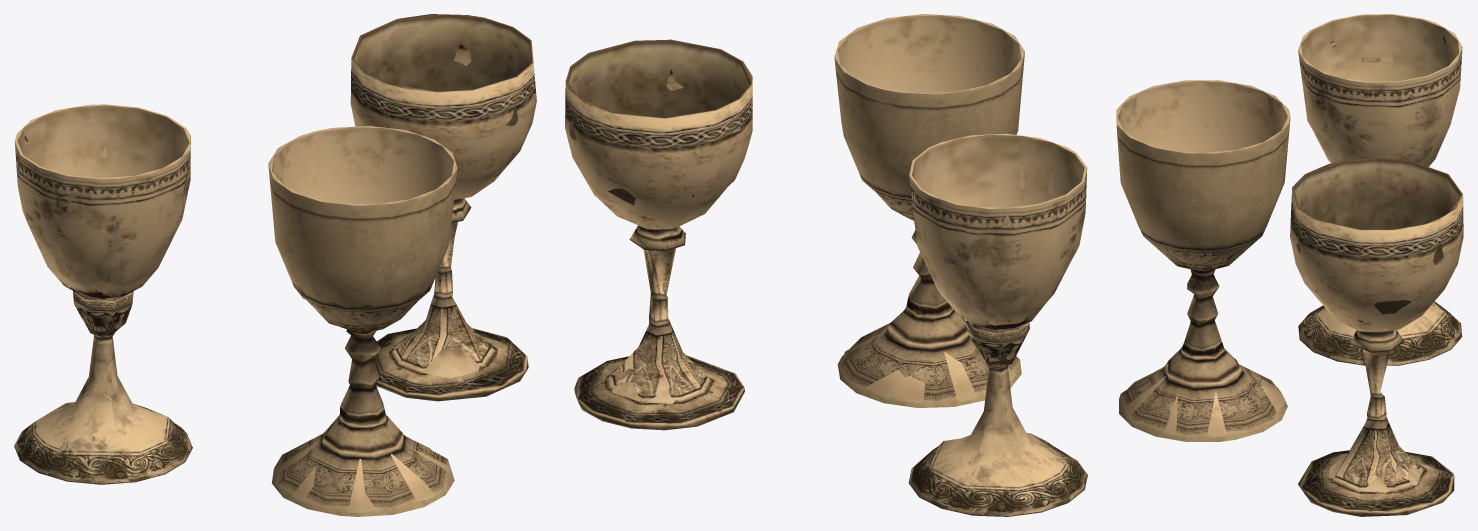
File: brass_goblets.glb
3 renders of one model, left to right at view 1: azimuth 30°, elevation 25°; view 2: azimuth 150°, elevation 25°; view 3: azimuth 270°, elevation 25°, orthographic. The views are drawn at different scales.
Visible parts, largest first — view 1: brass_goblet_01, brass_goblet_02, brass_goblet_03; view 2: brass_goblet_02, brass_goblet_03, brass_goblet_01; view 3: brass_goblet_01, brass_goblet_03, brass_goblet_02.
Part boxes in pixels (x1=…): brass_goblet_01: x1=268, y1=126, x2=457, y2=516; brass_goblet_02: x1=14, y1=104, x2=192, y2=484; brass_goblet_03: x1=350, y1=14, x2=536, y2=401; brass_goblet_02: x1=908, y1=133, x2=1087, y2=516; brass_goblet_03: x1=565, y1=39, x2=752, y2=430; brass_goblet_01: x1=834, y1=14, x2=1024, y2=407; brass_goblet_01: x1=1116, y1=80, x2=1290, y2=441; brass_goblet_03: x1=1290, y1=158, x2=1463, y2=516; brass_goblet_02: x1=1298, y1=14, x2=1462, y2=365.
Bounding box in the file's own units: 0.4504 × 0.2734 × 0.2955.
Materials: 3 (3 with a texture image).
